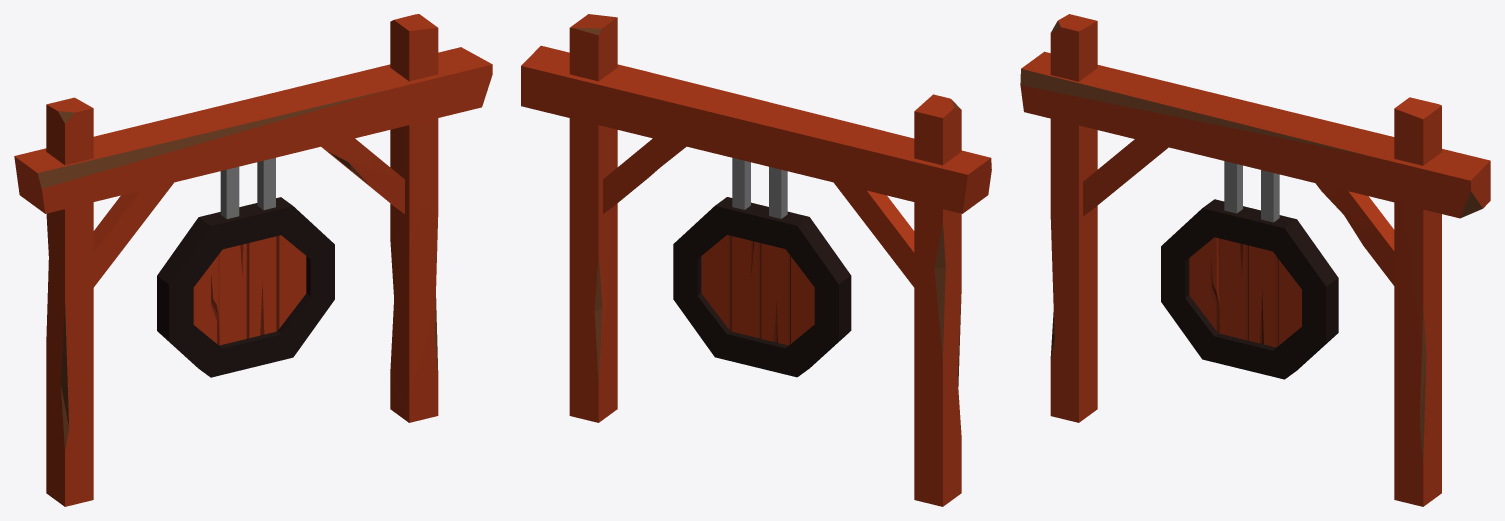
The model's file is Sign_2_1.fbx.
3 renders of one model, left to right at view 1: azimuth 30°, elevation 25°; view 2: azimuth 150°, elevation 25°; view 3: azimuth 330°, elevation 25°, orthographic.
Visible parts, largest first — view 1: Sign_2_1; view 2: Sign_2_1; view 3: Sign_2_1.
Boxes of the visible parts, box(x1,y1,x2,y2) form: Sign_2_1: box(14, 14, 492, 506); Sign_2_1: box(521, 14, 991, 506); Sign_2_1: box(1020, 14, 1490, 506).
Size of the model in its own units: 102 by 84.25 by 10.01.
